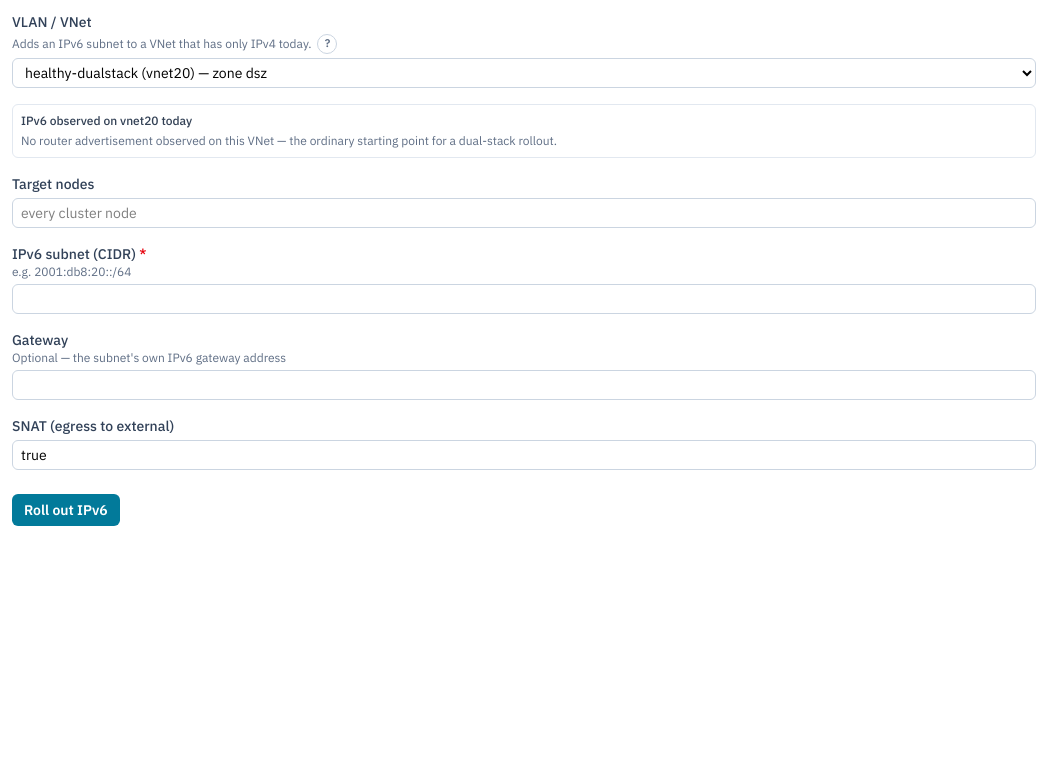
Scenario: DualStackWizard — T-1404 AC6 › first run stages one op; re-running against converged state yields zero ops
This screenshot has width=1048, height=780.
In the field labelled "IPv6 subnet (CIDR) *": (524, 299) [12,284,1036,314], type "2001:db8:20::/64"
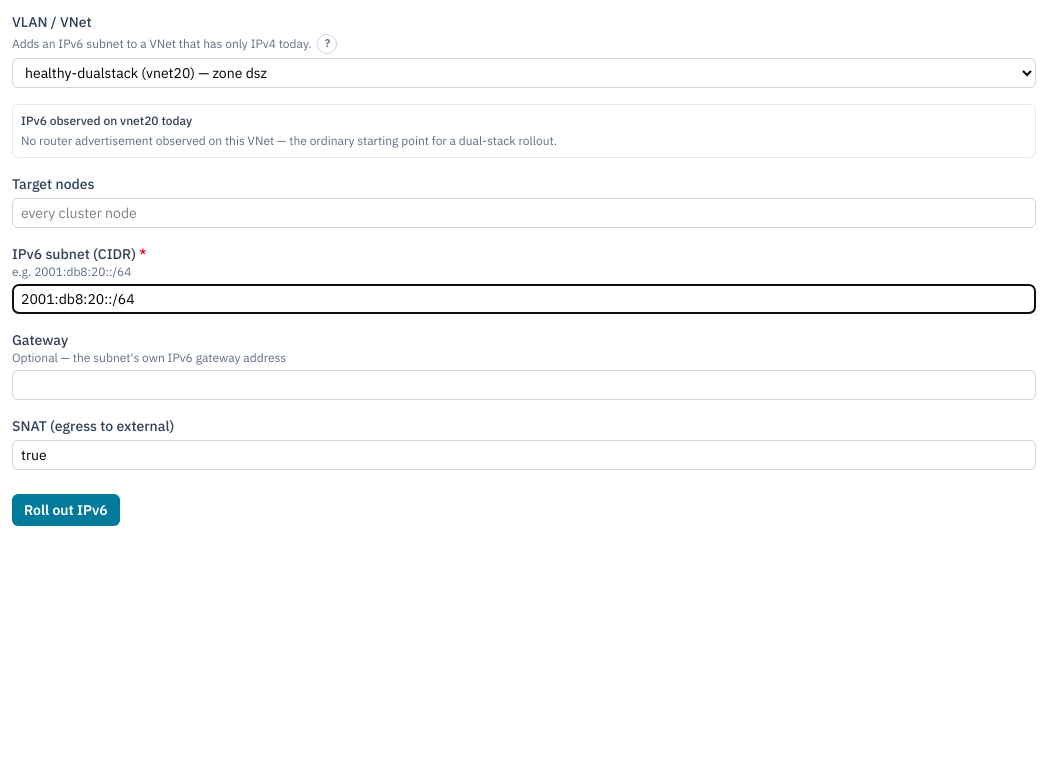
Click the button "Roll out IPv6": (66, 510) [12,494,120,526]
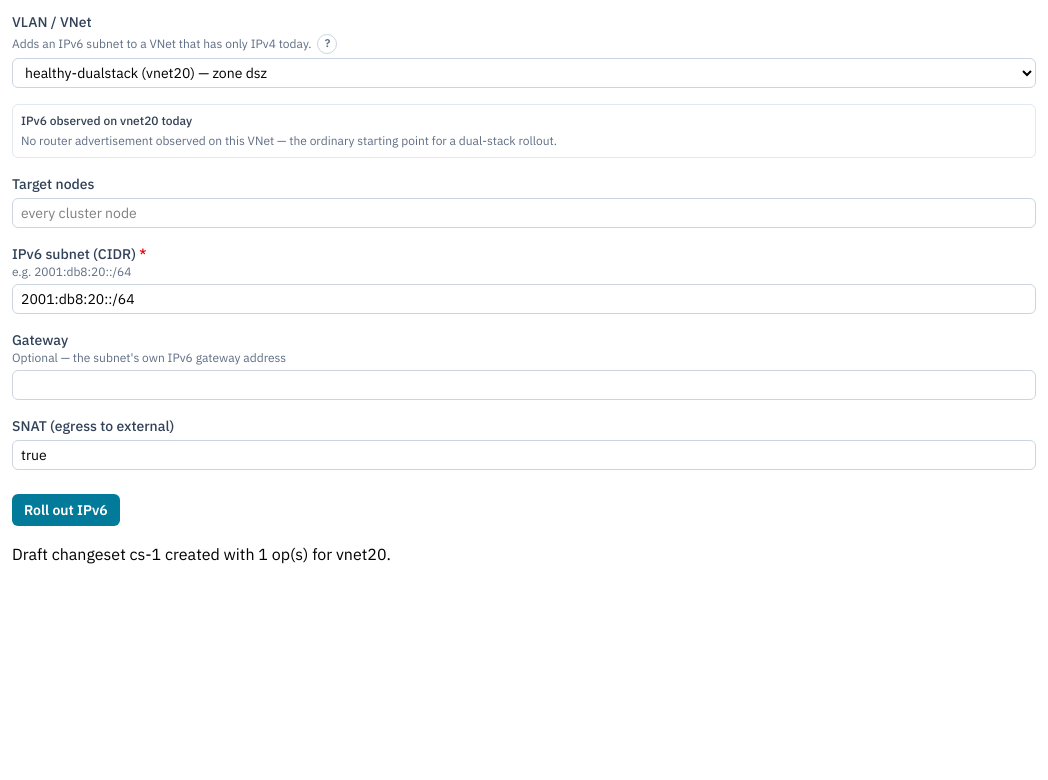
Now the text "Draft changeset cs-1 created with 1 op(s) for vnet20." is shown, box [12,544,391,564]
Click the button "Roll out IPv6": (66, 510) [12,494,120,526]
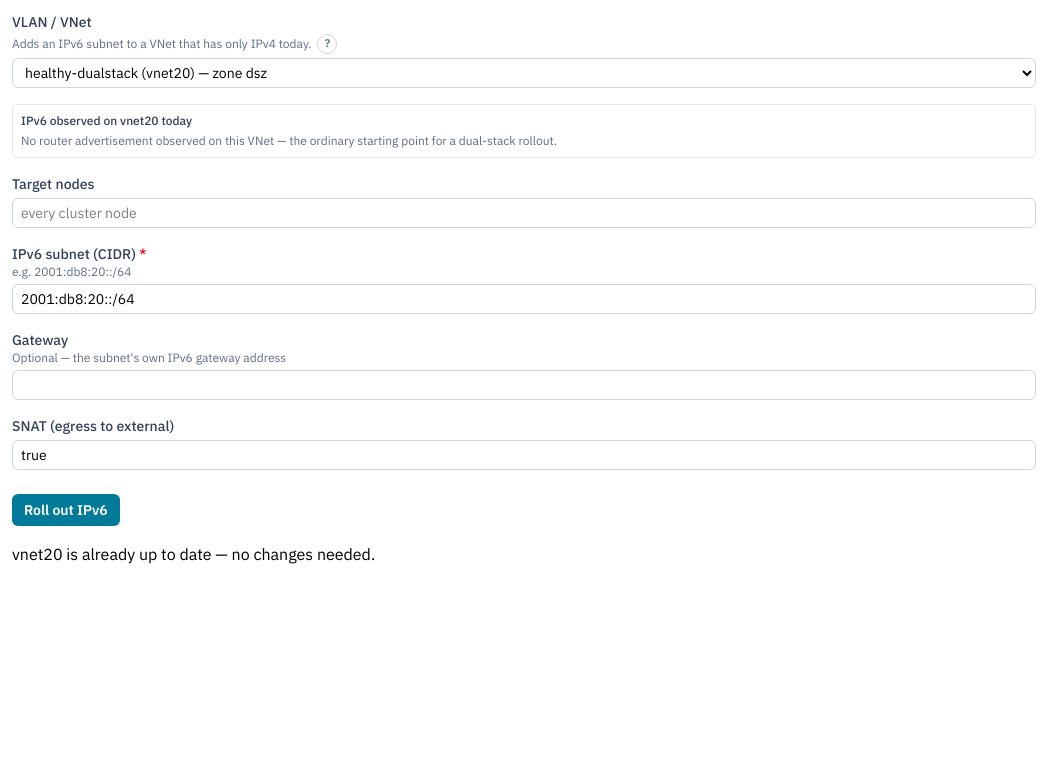
Now the text "vnet20 is already up to date — no changes needed." is shown, box [12,544,375,564]
